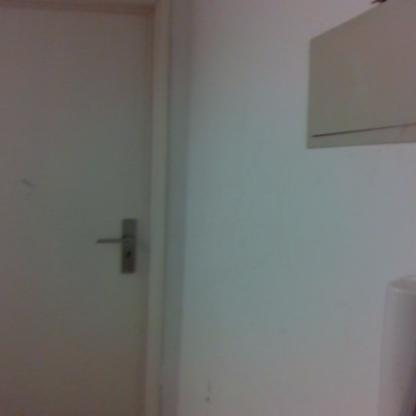door: (0, 8, 149, 416)
lever: (96, 234, 136, 247)
